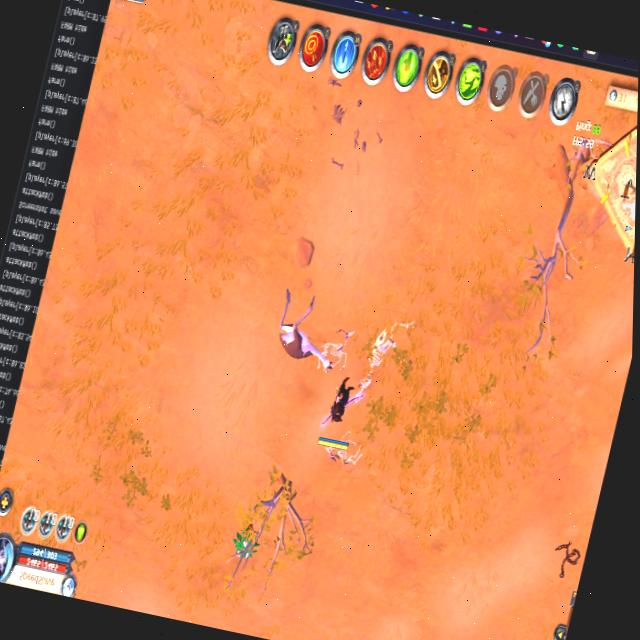hide: (229, 524, 252, 560)
mob: (266, 282, 347, 374)
red: (313, 371, 366, 458)
